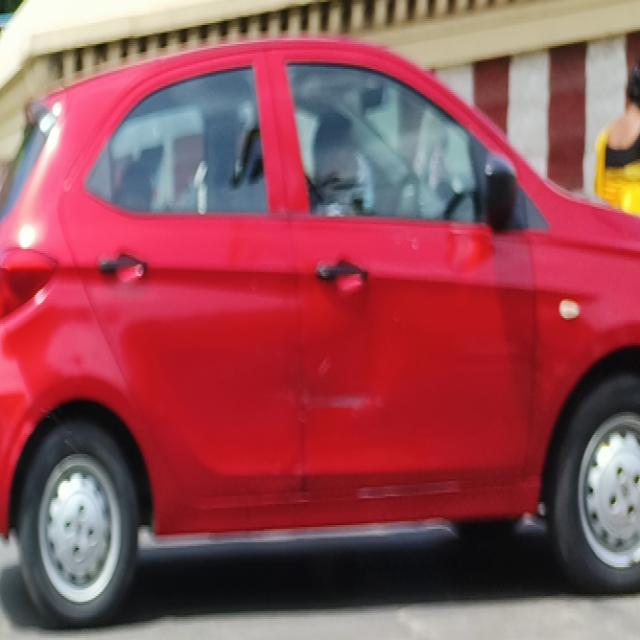scratch: (352, 472, 470, 507), (330, 389, 397, 425), (519, 408, 545, 448)
